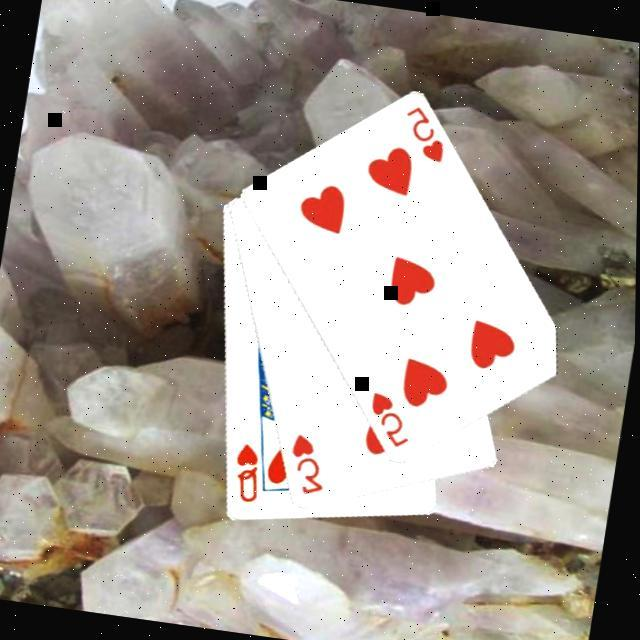3H: (281, 428, 335, 498)
5H: (361, 386, 420, 451), (396, 100, 454, 166)
QH: (226, 438, 268, 506)
